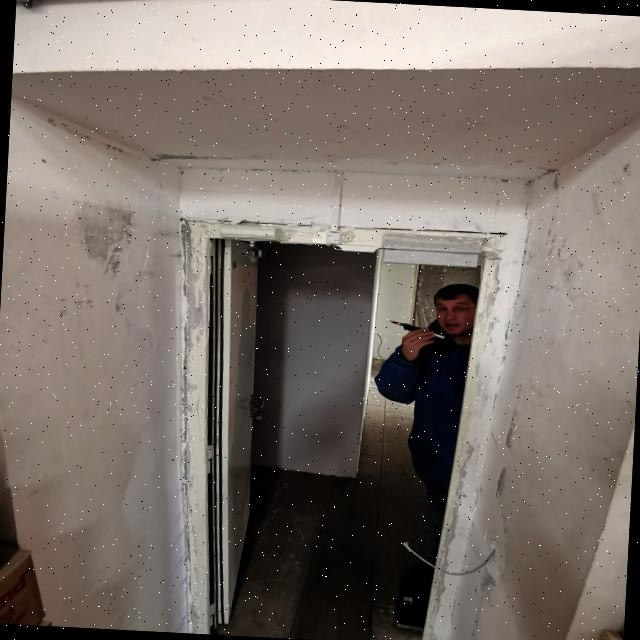NoHelmet: (431, 283, 481, 339)
